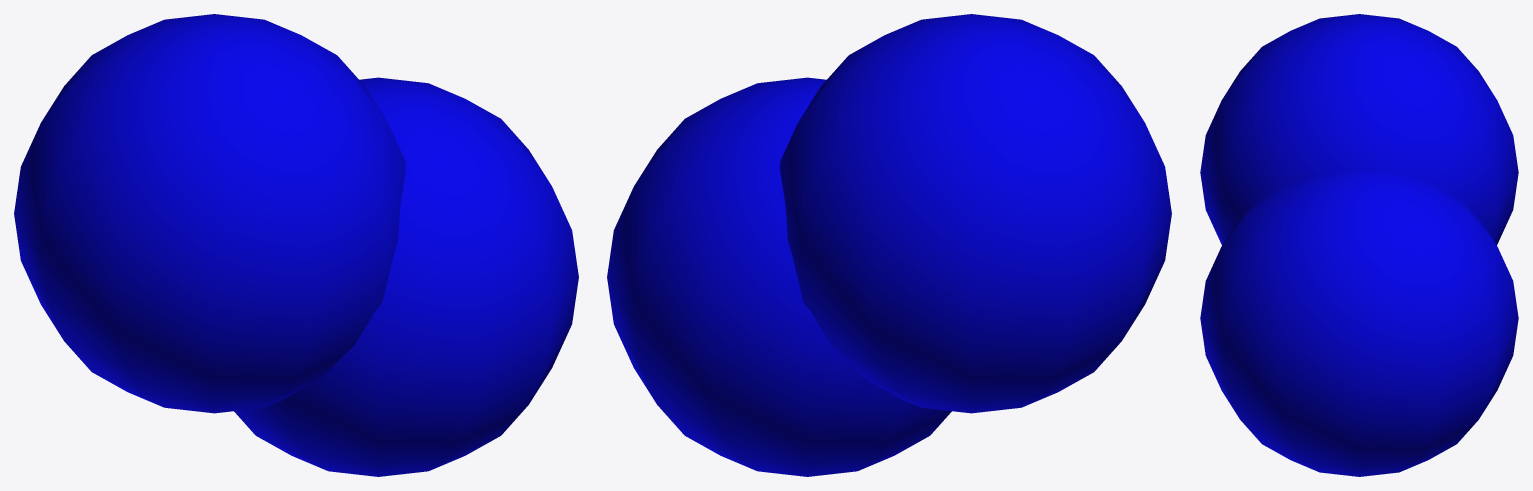
The model's file is nitrogen.fbx.
3 renders of one model, left to right at view 1: azimuth 30°, elevation 25°; view 2: azimuth 150°, elevation 25°; view 3: azimuth 270°, elevation 25°, orthographic. The views are drawn at different scales.
Parts seen in each view (by area): view 1: polySurface1; view 2: polySurface1; view 3: polySurface1.
Part boxes in pixels (left/top/right/bottom): polySurface1: left=14, top=14, right=578, bottom=476; polySurface1: left=607, top=14, right=1171, bottom=476; polySurface1: left=1200, top=14, right=1518, bottom=476.
Bounding box in the file's own units: 2.94 × 2.57 × 2.
